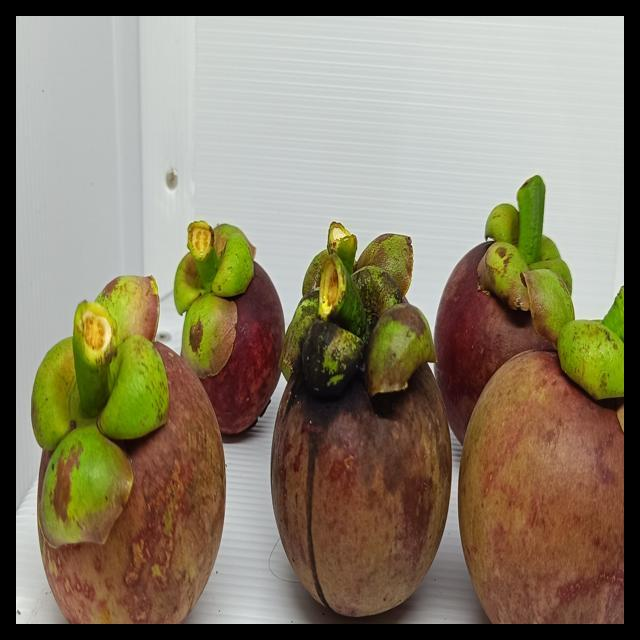mangosteen: (252, 239, 475, 616), (16, 276, 236, 624), (451, 287, 624, 623), (427, 183, 600, 486), (140, 207, 315, 427)
